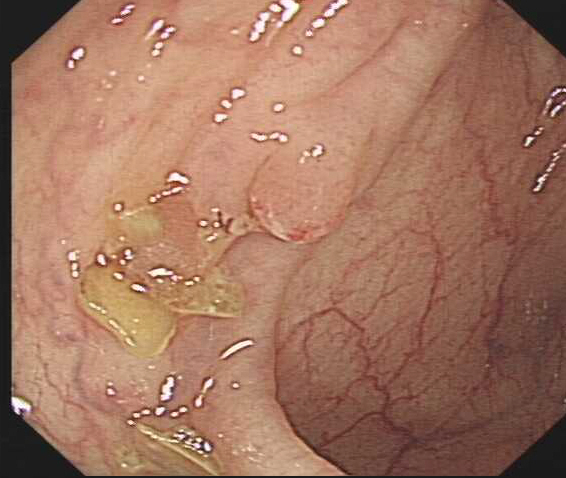others: (247, 134, 365, 245)
